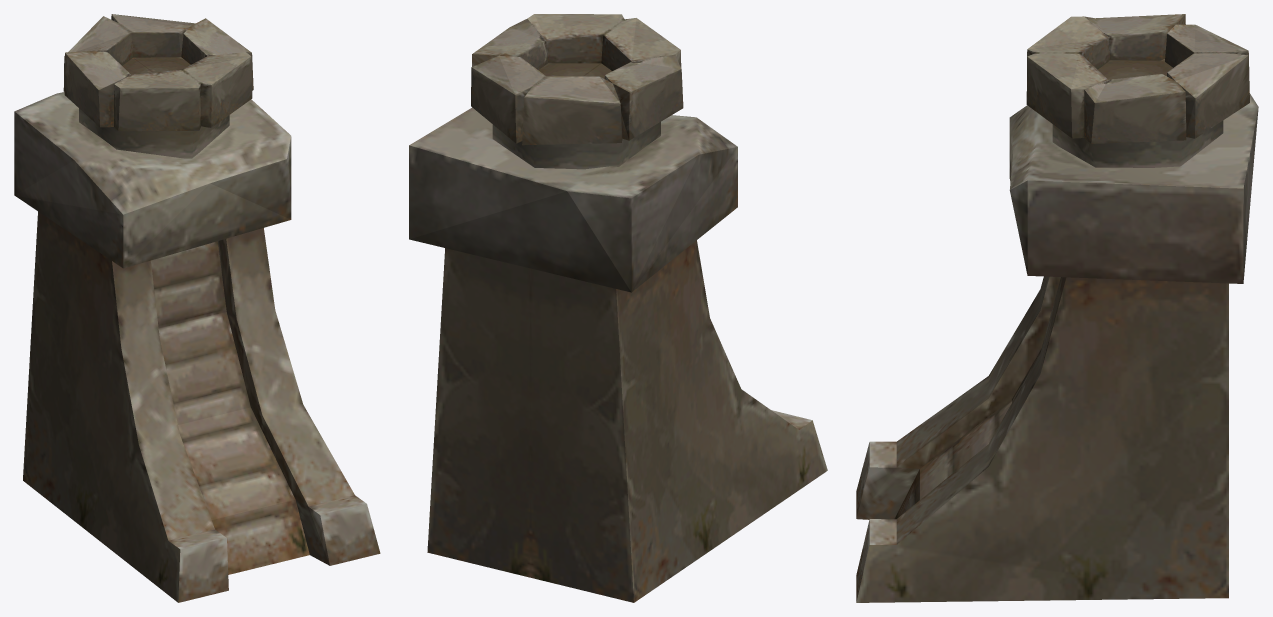
Rendered from nashgar_trim_convex2_ruins_a_right.FBX.
The picture shows the model from 3 angles, left to right: view 1: azimuth 30°, elevation 25°; view 2: azimuth 150°, elevation 25°; view 3: azimuth 270°, elevation 25°; orthographic projection. The views are drawn at different scales.
Visible parts, largest first — view 1: nashgar_trim_convex2_ruins_a_right; view 2: nashgar_trim_convex2_ruins_a_right; view 3: nashgar_trim_convex2_ruins_a_right.
Part boxes in pixels (x1,y1,x2,y2): nashgar_trim_convex2_ruins_a_right: (14, 14, 380, 602); nashgar_trim_convex2_ruins_a_right: (409, 14, 827, 602); nashgar_trim_convex2_ruins_a_right: (856, 14, 1258, 602).
Size of the model in its own units: 1.65 by 3.39 by 2.5.
